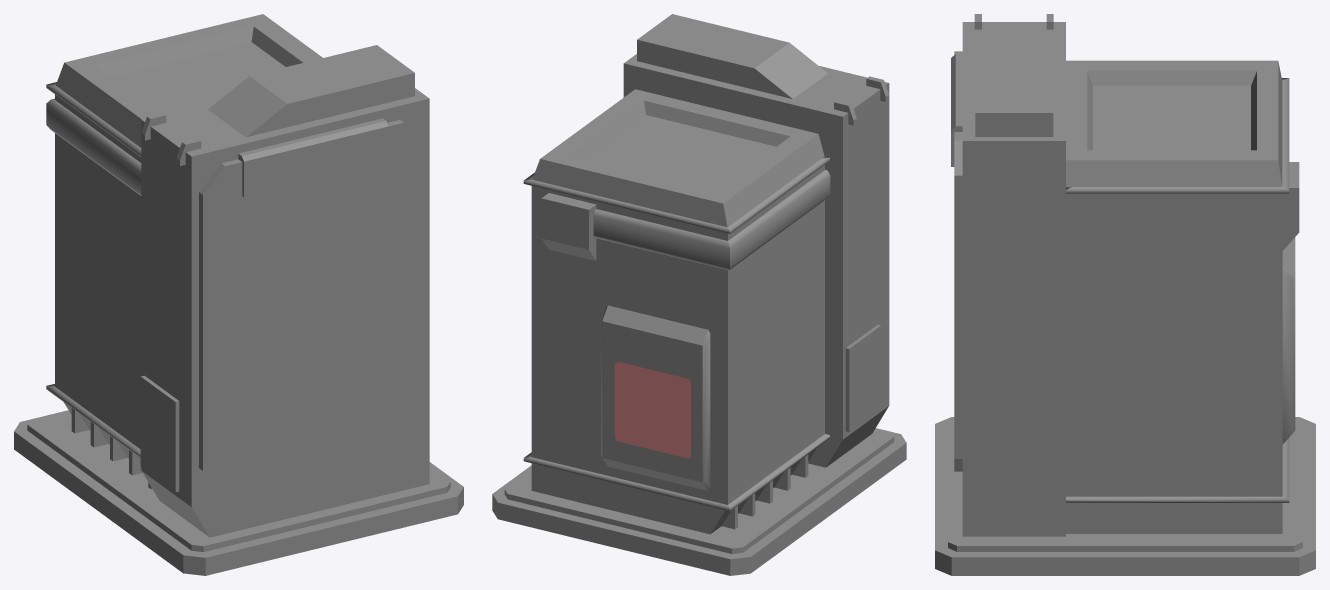
The model's file is S_Envi_Umeda_Aspot_electricitybox_01.gltf.
3 renders of one model, left to right at view 1: azimuth 30°, elevation 25°; view 2: azimuth 150°, elevation 25°; view 3: azimuth 270°, elevation 25°, orthographic. The views are drawn at different scales.
Visible parts, largest first — view 1: S_Envi_Umeda_Aspot_electricitybox_01; view 2: S_Envi_Umeda_Aspot_electricitybox_01; view 3: S_Envi_Umeda_Aspot_electricitybox_01.
Part boxes in pixels (<box>): S_Envi_Umeda_Aspot_electricitybox_01: <box>14,14,463,575</box>; S_Envi_Umeda_Aspot_electricitybox_01: <box>492,14,906,575</box>; S_Envi_Umeda_Aspot_electricitybox_01: <box>935,14,1315,575</box>.
Bounding box in the file's own units: 1.68 × 2.47 × 1.92.
